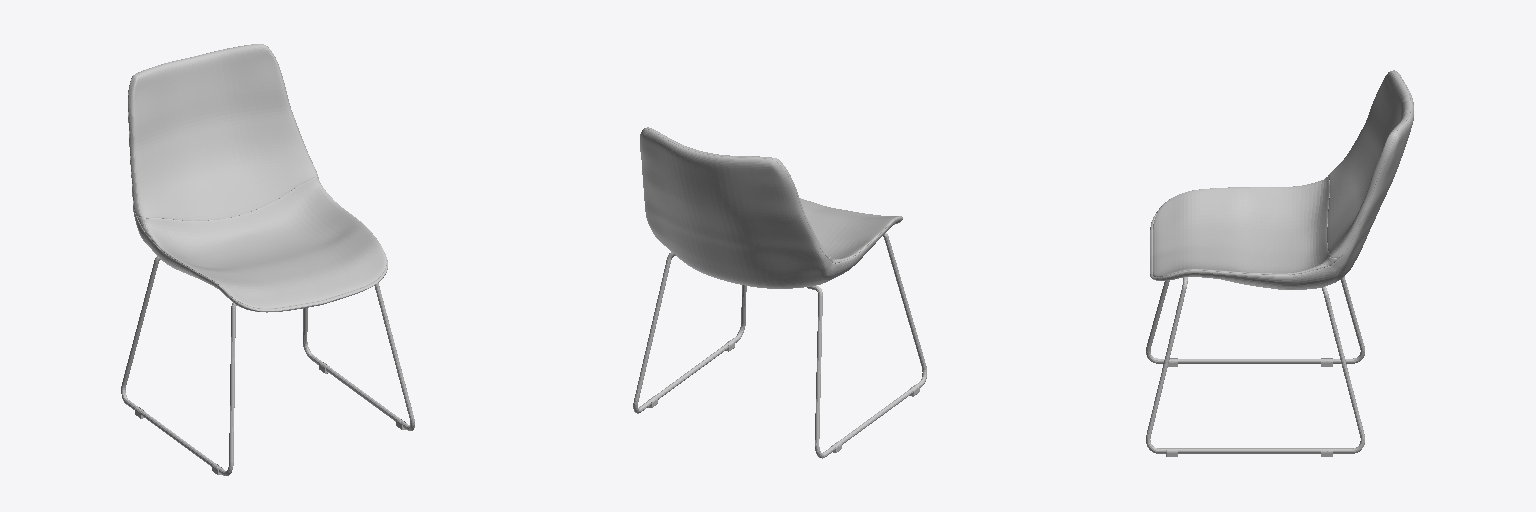
File: chair.obj
The picture shows the model from 3 angles: view 1: azimuth 30°, elevation 25°; view 2: azimuth 150°, elevation 25°; view 3: azimuth 270°, elevation 25°; orthographic projection.
Parts seen in each view (by area): view 1: Box003, Line002; view 2: Box003, Line002; view 3: Box003, Line002.
Part boxes in pixels (x1,y1,x2,y2): Box003: (128, 44, 387, 312); Line002: (121, 256, 414, 475); Box003: (640, 127, 902, 288); Line002: (633, 233, 926, 458); Box003: (1150, 70, 1413, 289); Line002: (1146, 276, 1364, 453).
Bounding box in the file's own units: 21.66 × 33.82 × 26.55.